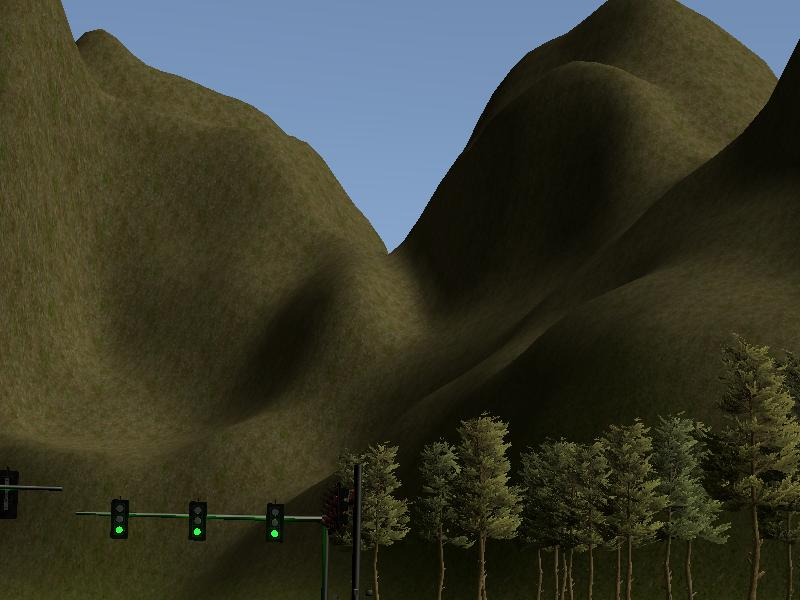Green: (188, 503, 207, 541), (265, 505, 283, 541), (111, 502, 128, 539)
